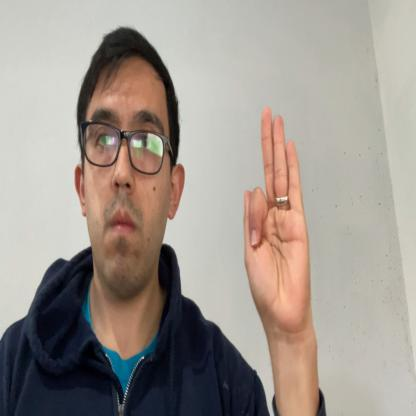F: (243, 107, 310, 334)
